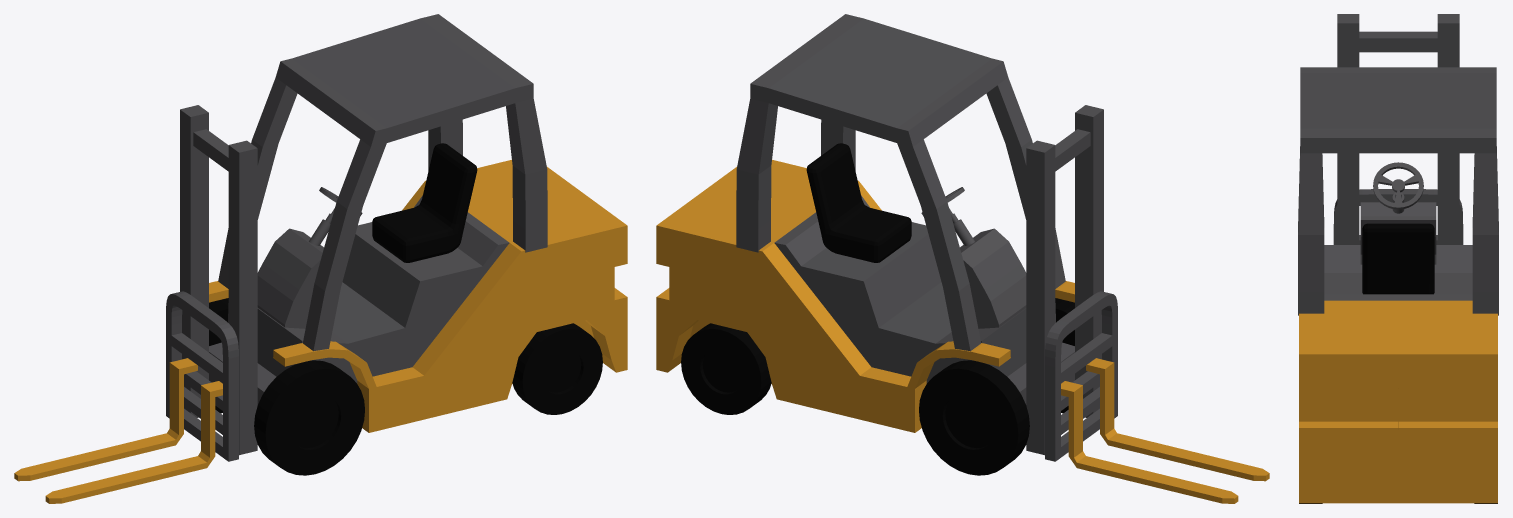
The model's file is fork lift.fbx.
The picture shows the model from 3 angles, left to right: view 1: azimuth 30°, elevation 25°; view 2: azimuth 150°, elevation 25°; view 3: azimuth 270°, elevation 25°; orthographic projection. The views are drawn at different scales.
Visible parts, largest first — view 1: Cube.008, Cube.009, Cube.012, Cylinder, Cube.014, Cube.011, Cube.013, Cylinder.001, Cube.010; view 2: Cube.008, Cube.009, Cube.012, Cylinder, Cube.014, Cube.011, Cube.013, Cylinder.001, Cube.010; view 3: Cube.008, Cube.009, Cube.012, Cube.011, Cube.010, Circle, Cube.013.
Boxes of the visible parts, x1,y1,x2,y2 form: Cube.008: (209,159,627,432); Cube.009: (218,14,547,351); Cube.012: (180,105,257,455); Cylinder: (209,298,364,475); Cube.014: (14,358,222,503); Cube.011: (372,143,477,262); Cube.013: (166,291,238,461); Cylinder.001: (512,323,602,414); Cube.010: (257,228,323,328); Cube.008: (656,159,1074,432); Cube.009: (736,14,1065,351); Cube.012: (1026,105,1103,455); Cylinder: (919,298,1074,475); Cube.014: (1061,358,1269,503); Cube.011: (806,143,911,262); Cube.013: (1045,291,1117,461); Cylinder.001: (681,323,771,414); Cube.010: (960,228,1026,328); Cube.008: (1299,245,1497,503); Cube.009: (1298,67,1498,315); Cube.012: (1337,14,1459,244); Cube.011: (1362,223,1434,294); Cube.010: (1360,202,1436,264); Circle: (1373,162,1423,213); Cube.013: (1333,189,1463,244).
Bounding box in the file's own units: 130 × 76.4 × 40.03.
